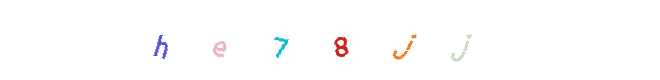7: (286, 0, 366, 80)
8: (290, 0, 370, 80)
E: (241, 0, 321, 80)
H: (121, 0, 201, 80)
J: (301, 0, 381, 80), (350, 0, 430, 80)
